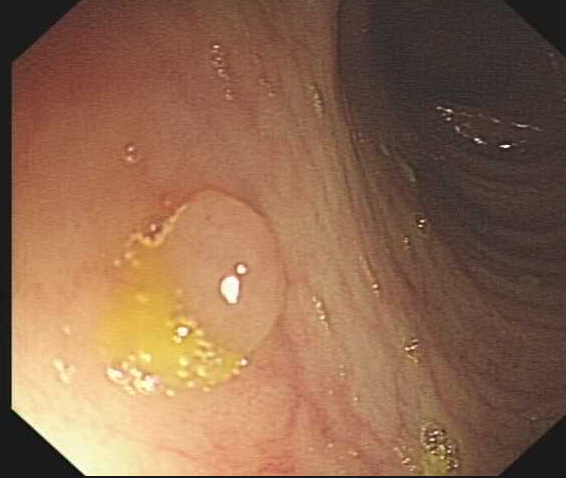others: (149, 186, 288, 361)
